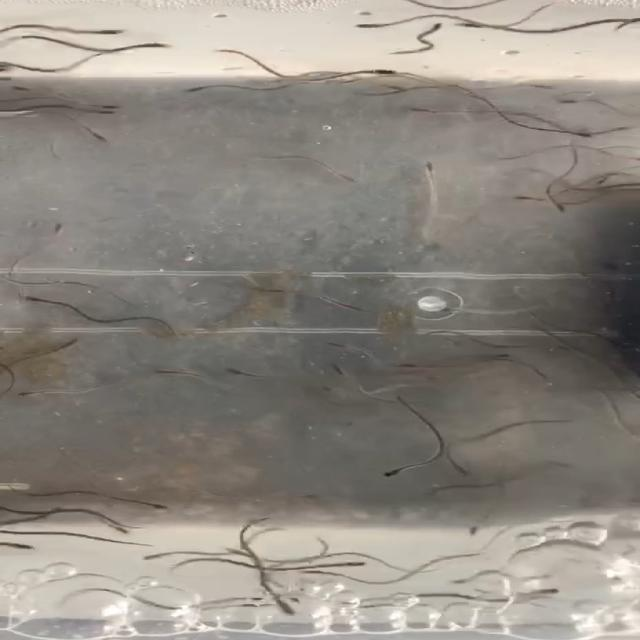active_glass_eel: (550, 123, 606, 143), (78, 22, 128, 41), (411, 156, 450, 180), (344, 20, 408, 34), (170, 79, 226, 94), (327, 166, 363, 188), (511, 78, 560, 94), (83, 102, 124, 120), (323, 300, 370, 315), (133, 40, 177, 56), (224, 543, 262, 561), (404, 103, 464, 114), (12, 293, 56, 308), (227, 590, 274, 604), (88, 96, 129, 112), (154, 368, 200, 382), (83, 128, 115, 148), (318, 337, 357, 353), (350, 65, 400, 77), (559, 95, 605, 108), (218, 367, 263, 380), (378, 76, 412, 93), (133, 548, 173, 562), (139, 498, 174, 514), (10, 388, 56, 400), (383, 463, 417, 479), (319, 360, 349, 378), (272, 601, 299, 621), (101, 519, 132, 536), (454, 463, 483, 481), (54, 336, 88, 351), (33, 504, 63, 520), (319, 558, 366, 568), (0, 538, 39, 550), (425, 20, 442, 45), (0, 65, 25, 82), (482, 352, 524, 362), (455, 21, 500, 30), (552, 193, 568, 217), (50, 218, 67, 240), (468, 522, 489, 538), (536, 586, 560, 597)
